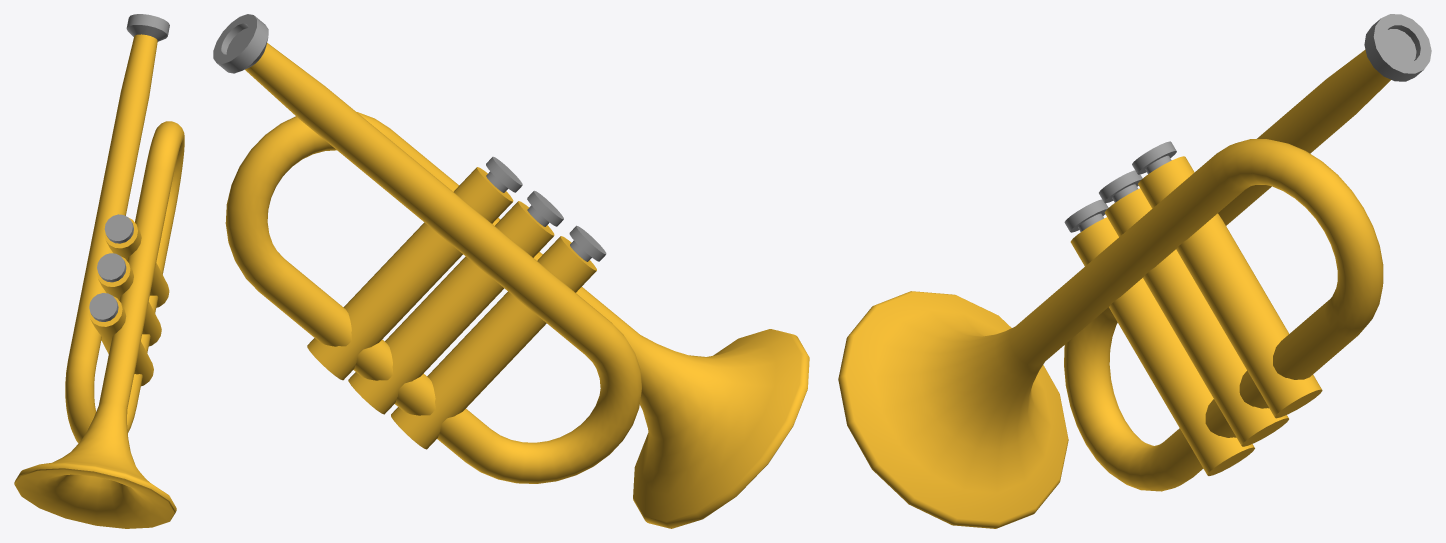
File: trumpet.glb
The picture shows the model from 3 angles, left to right: view 1: azimuth 30°, elevation 25°; view 2: azimuth 150°, elevation 25°; view 3: azimuth 270°, elevation 25°; orthographic projection. The views are drawn at different scales.
Parts seen in each view (by area): view 1: Torus.008; view 2: Torus.008; view 3: Torus.008.
Boxes of the visible parts, bbox=[...] form: Torus.008: bbox=[14, 14, 184, 528]; Torus.008: bbox=[213, 14, 809, 528]; Torus.008: bbox=[838, 14, 1431, 528].
Bounding box in the file's own units: 1.72 × 2.33 × 2.01.
1 material, 1 textured.
